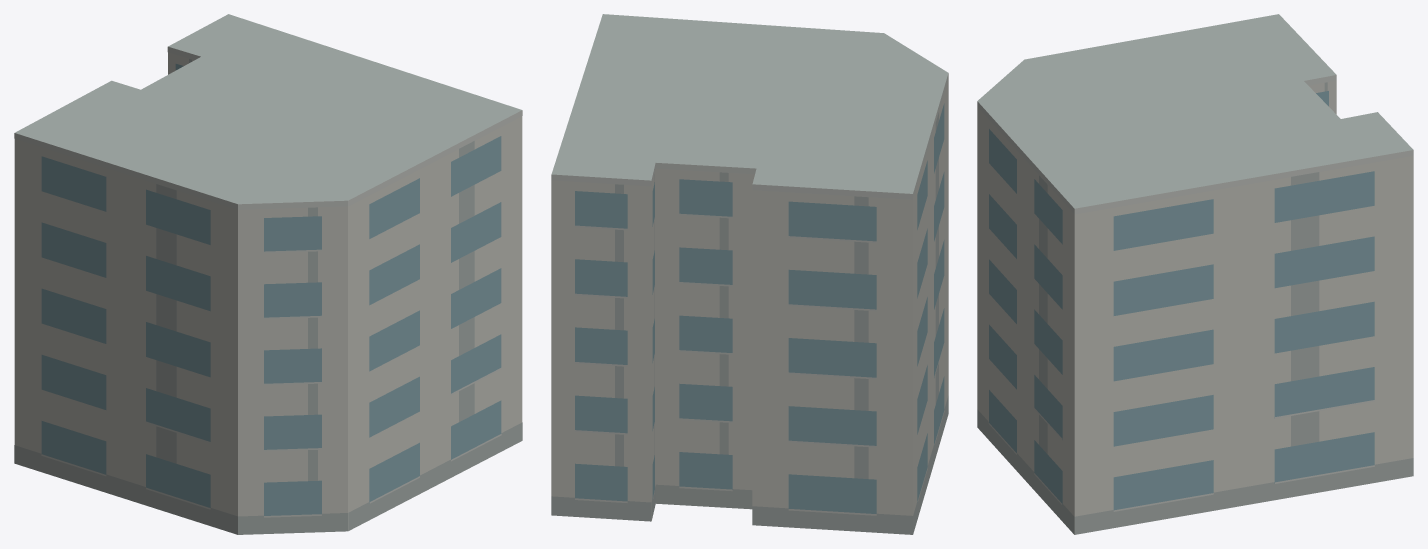
Rendered from survey-upis-32809411.glb.
The picture shows the model from 3 angles, left to right: view 1: azimuth 30°, elevation 25°; view 2: azimuth 150°, elevation 25°; view 3: azimuth 270°, elevation 25°; orthographic projection. The views are drawn at different scales.
Visible parts, largest first — view 1: survey-upis-32809411.tmp; view 2: survey-upis-32809411.tmp; view 3: survey-upis-32809411.tmp.
Part boxes in pixels (x1,y1,x2,y2): survey-upis-32809411.tmp: [14, 14, 522, 534]; survey-upis-32809411.tmp: [551, 14, 948, 534]; survey-upis-32809411.tmp: [977, 14, 1413, 534].
Bounding box in the file's own units: 17.93 × 14 × 16.98.
